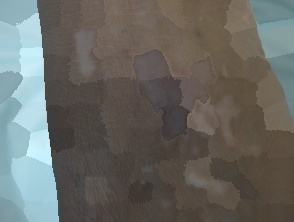vitiligo: (28, 0, 294, 222)
